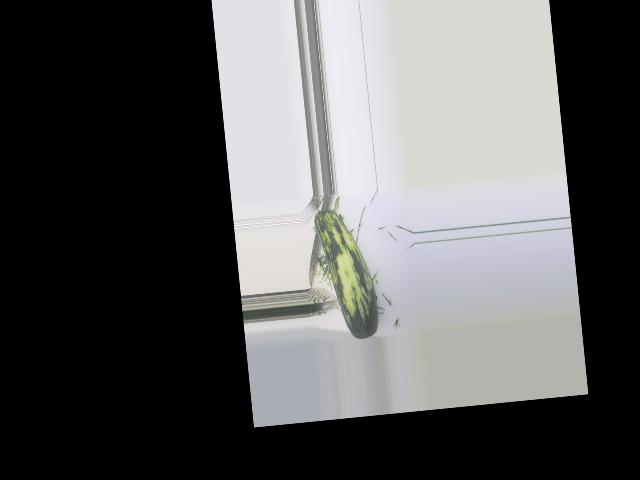cucumber: (313, 204, 380, 342)
